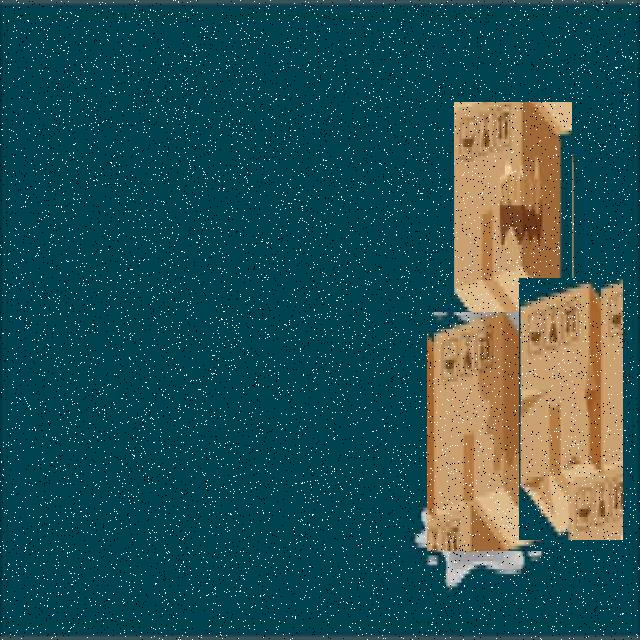defect: (454, 102, 572, 346), (428, 312, 548, 551), (519, 278, 623, 540)
